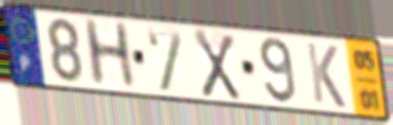7: (145, 24, 185, 94)
8: (45, 16, 85, 85)
9: (257, 35, 298, 105)
H: (80, 17, 139, 89)
K: (304, 40, 348, 111)
X: (191, 26, 242, 103)
